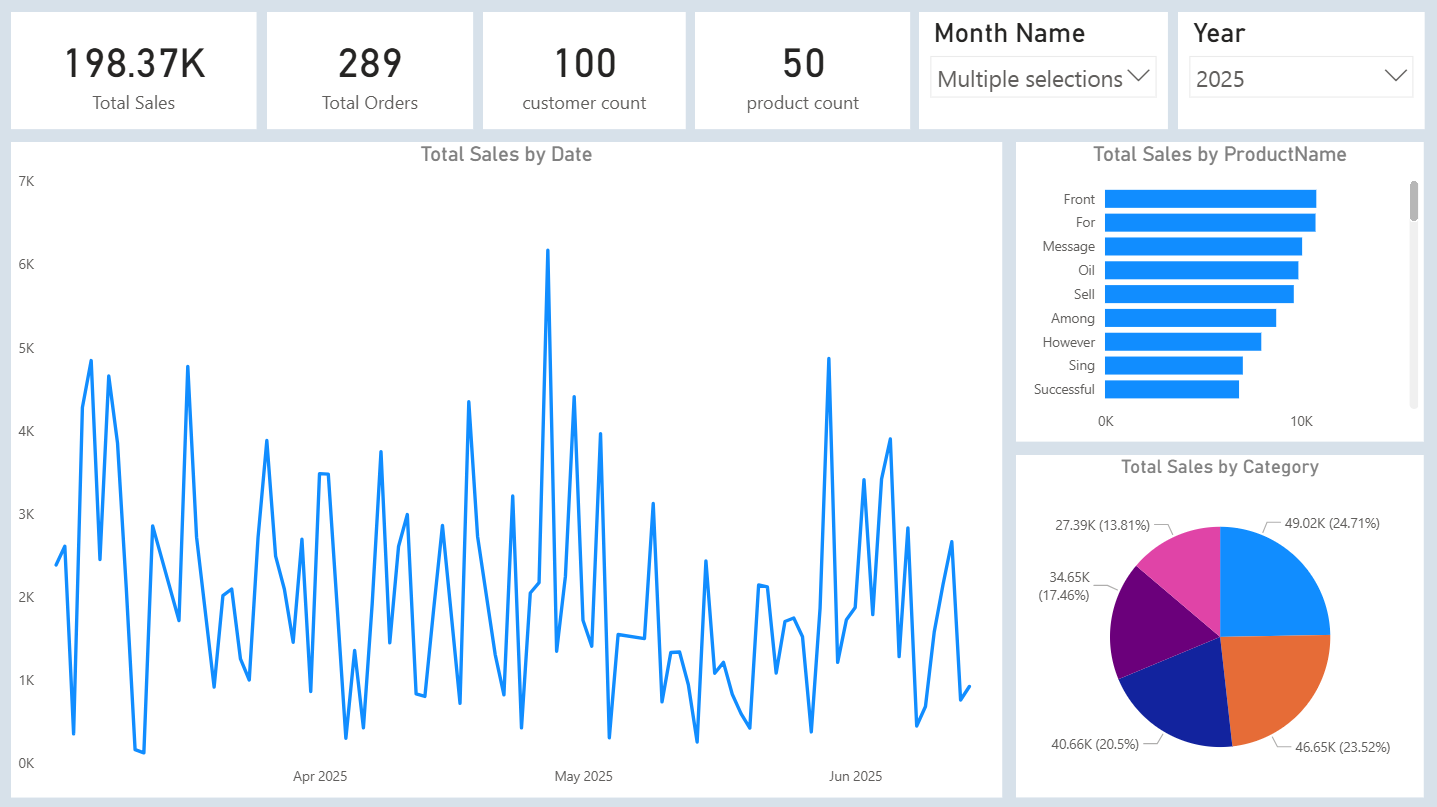

The page's visual inventory and layout, read from the dashboard file:
{"tool":"powerbi","page":{"name":"sales overview","canvas":[1280,720],"ordinal":0},"visuals":[{"type":"card","fields":{"Values":["sales.Total Sales"]},"box":[10.2,13.2,217.8,103.8],"z":0},{"type":"card","fields":{"Values":["sales.Total Orders"]},"box":[238.2,13.2,182.7,103.8],"z":1000},{"type":"slicer","fields":{"Values":["calender.Month Name"]},"box":[817,13.2,220.7,103.8],"z":2000},{"type":"lineChart","fields":{"Y":["sales.Total Sales"],"Category":["calender.Date"]},"box":[10.2,128.6,879.8,581.7],"z":3000},{"type":"slicer","fields":{"Values":["calender.Year"]},"box":[1046.5,13.2,219.2,103.8],"z":4000},{"type":"pieChart","fields":{"Y":["sales.Total Sales"],"Category":["products.Category"]},"box":[903.2,406.3,362.5,304],"z":4001},{"type":"card","fields":{"Values":["customers.customer count"]},"box":[429.7,13.2,179.8,103.8],"z":4002},{"type":"card","fields":{"Values":["sales.product count"]},"box":[618.2,13.2,191.5,103.8],"z":4003},{"type":"clusteredBarChart","fields":{"Category":["products.ProductName"],"Y":["sales.Total Sales"]},"box":[903.2,128.6,362.5,266],"z":4004}]}

Visuals, with their boxes in screenshot pixels (x1, y1, x2, y2), scaled from the page's 1280x720 canvas onto the 1437x807 screenshot:
card - sales.Total Sales: (11, 15, 256, 131)
card - sales.Total Orders: (267, 15, 473, 131)
slicer - calender.Month Name: (917, 15, 1165, 131)
lineChart - sales.Total Sales x calender.Date: (11, 144, 999, 796)
slicer - calender.Year: (1175, 15, 1421, 131)
pieChart - sales.Total Sales x products.Category: (1014, 455, 1421, 796)
card - customers.customer count: (482, 15, 684, 131)
card - sales.product count: (694, 15, 909, 131)
clusteredBarChart - products.ProductName x sales.Total Sales: (1014, 144, 1421, 442)
